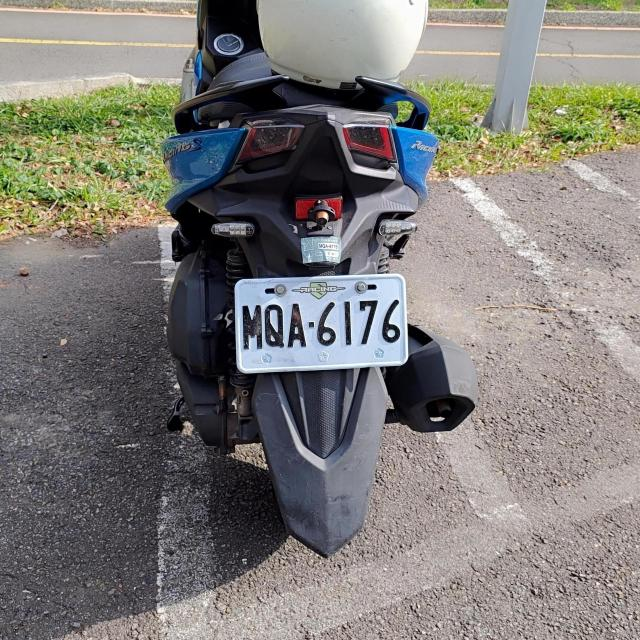W: (234, 274, 407, 372)
